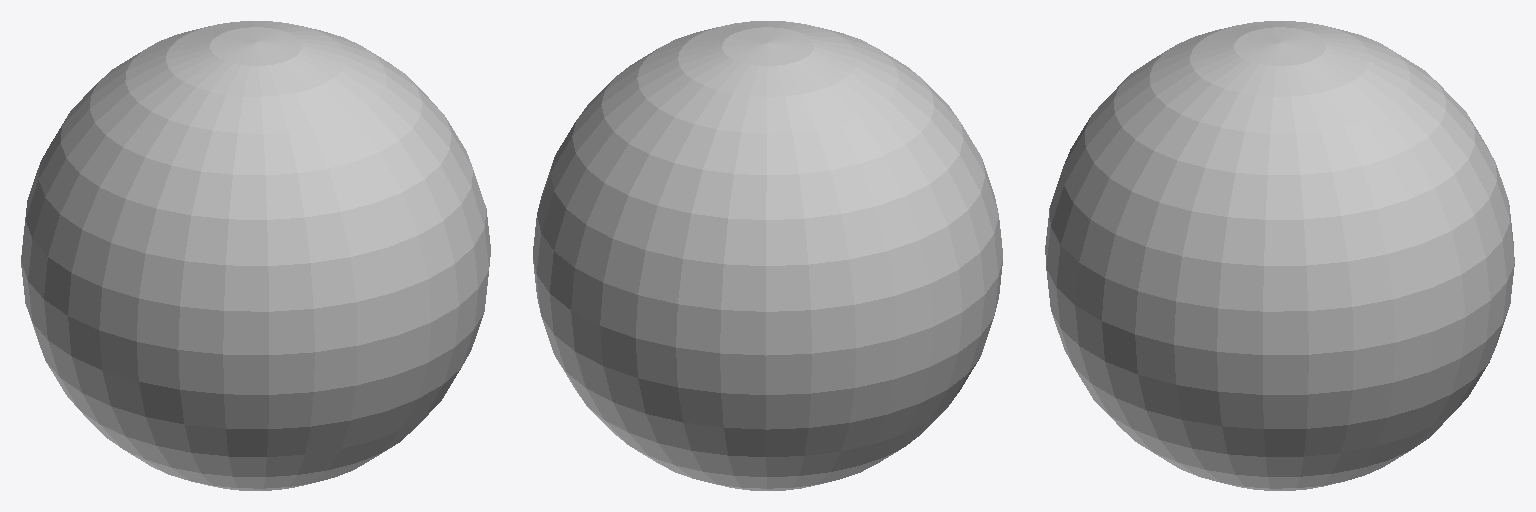
File: mesh_bodyjoint_l2.obj
The picture shows the model from 3 angles: view 1: azimuth 30°, elevation 25°; view 2: azimuth 150°, elevation 25°; view 3: azimuth 270°, elevation 25°; orthographic projection.
Visible parts, largest first — view 1: Sphere.012_Sphere.021; view 2: Sphere.012_Sphere.021; view 3: Sphere.012_Sphere.021.
Boxes of the visible parts, x1=… form: Sphere.012_Sphere.021: x1=21, y1=21, x2=490, y2=490; Sphere.012_Sphere.021: x1=533, y1=21, x2=1002, y2=490; Sphere.012_Sphere.021: x1=1045, y1=21, x2=1514, y2=490.
Size of the model in its own units: 0.2992 by 0.3 by 0.2992.